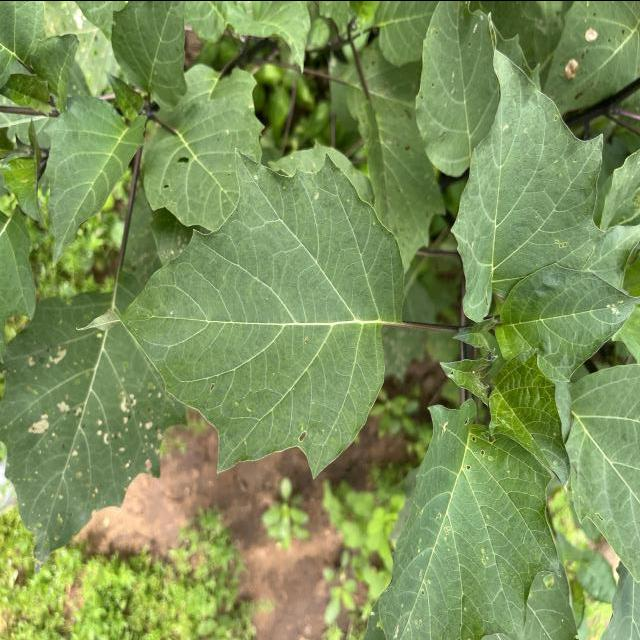Datura metal linn: (72, 142, 409, 483), (448, 8, 607, 323), (378, 396, 566, 640), (43, 92, 150, 270), (493, 258, 640, 383), (487, 345, 581, 508)
